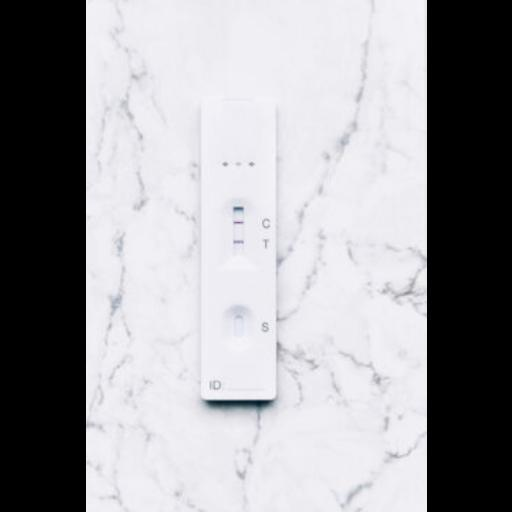Pos: (202, 102, 274, 398)
